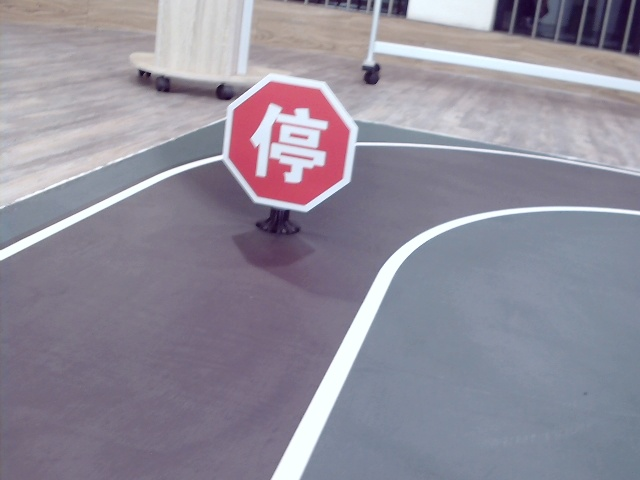stop: (246, 100, 328, 187)
